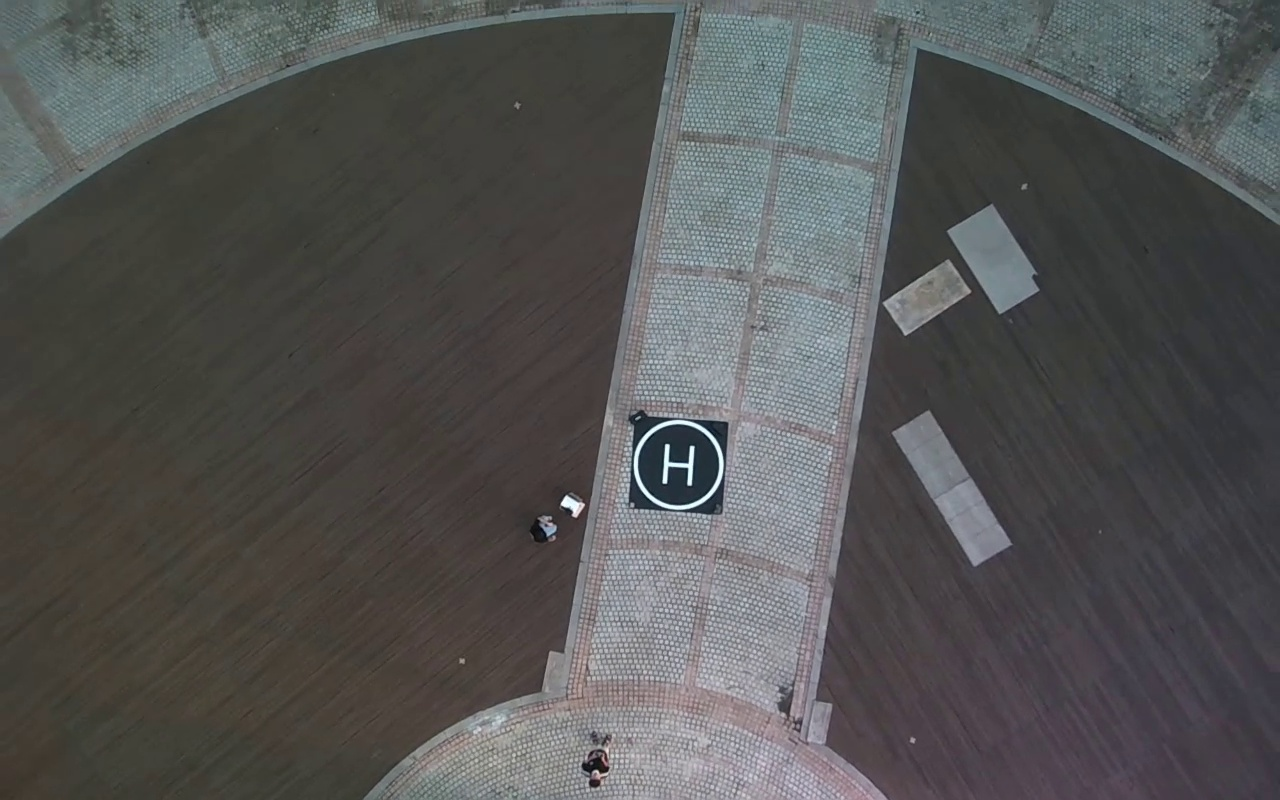H: (661, 444, 694, 484)
heliport: (634, 418, 725, 511)
